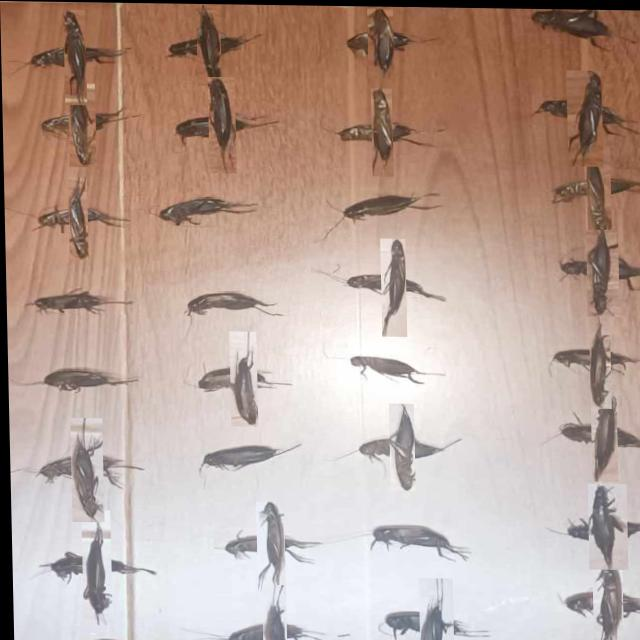egg: (586, 481, 625, 567), (80, 509, 109, 624), (69, 417, 101, 521), (568, 68, 602, 164), (369, 524, 466, 556), (585, 227, 617, 313), (228, 330, 256, 424), (208, 75, 235, 172), (256, 500, 283, 595), (157, 196, 251, 223), (532, 6, 610, 37), (381, 237, 405, 335), (585, 144, 611, 234), (67, 82, 95, 165), (592, 558, 620, 640), (387, 402, 413, 489), (590, 390, 615, 479), (31, 289, 127, 312), (200, 444, 287, 469), (185, 290, 273, 314), (418, 576, 451, 640), (64, 9, 86, 104), (196, 3, 221, 84), (588, 310, 609, 405), (348, 354, 419, 382), (343, 193, 421, 218), (40, 369, 132, 390), (367, 6, 394, 77), (371, 86, 392, 175), (68, 176, 87, 258), (260, 583, 284, 640)
